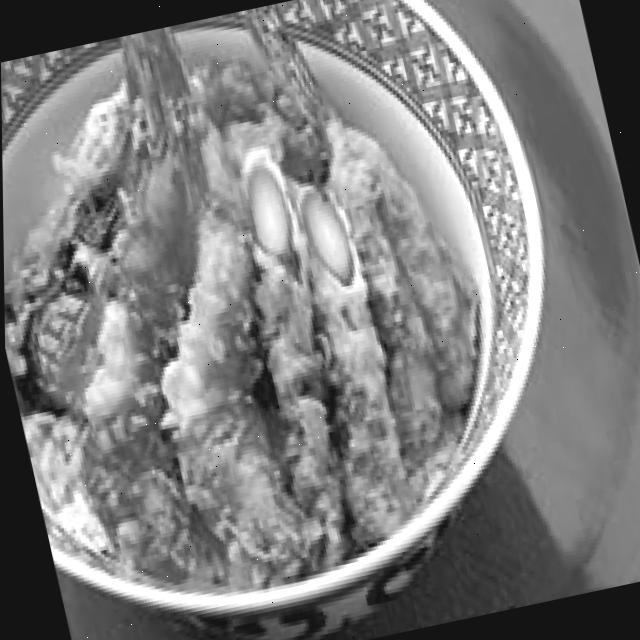熟制海鲜: (0, 0, 629, 640)
